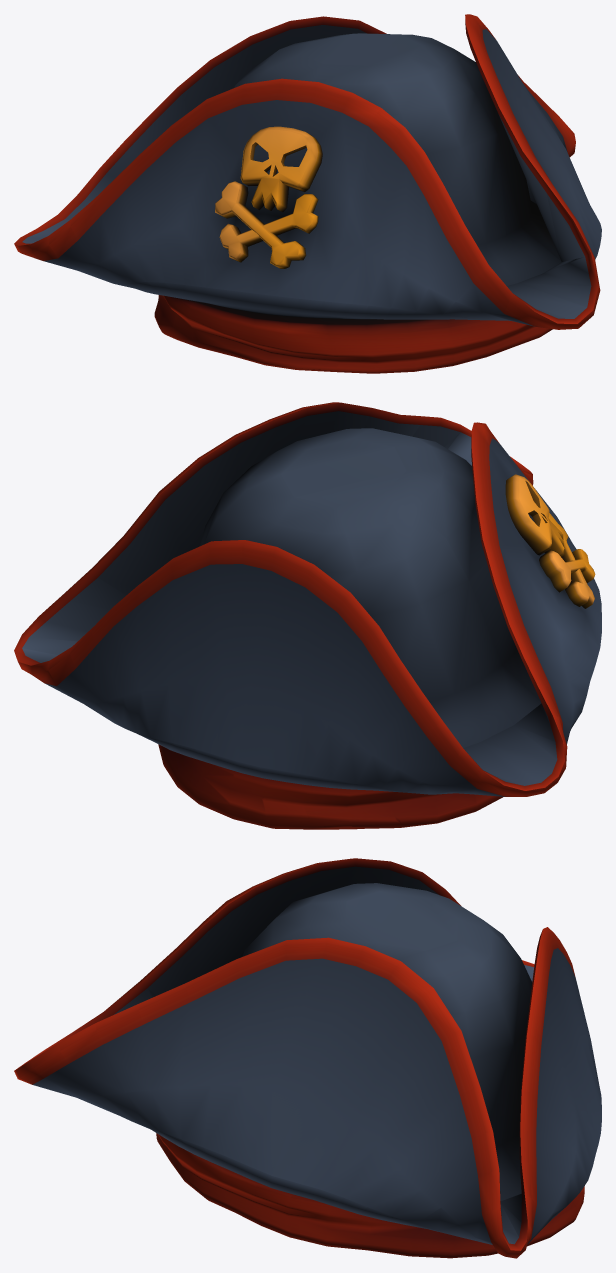
File: Cap_Cocked_Hat.gltf
3 renders of one model, top to bottom at view 1: azimuth 30°, elevation 25°; view 2: azimuth 150°, elevation 25°; view 3: azimuth 270°, elevation 25°, orthographic. The views are drawn at different scales.
Parts seen in each view (by area): view 1: Cap_Cocked_Hat; view 2: Cap_Cocked_Hat; view 3: Cap_Cocked_Hat.
Part boxes in pixels (box(x1,y1,x2,y2)): Cap_Cocked_Hat: box(14, 14, 601, 373); Cap_Cocked_Hat: box(14, 402, 601, 829); Cap_Cocked_Hat: box(14, 858, 601, 1258).
Size of the model in its own units: 1.32 by 0.6914 by 1.23.
3 materials, 3 textured.
